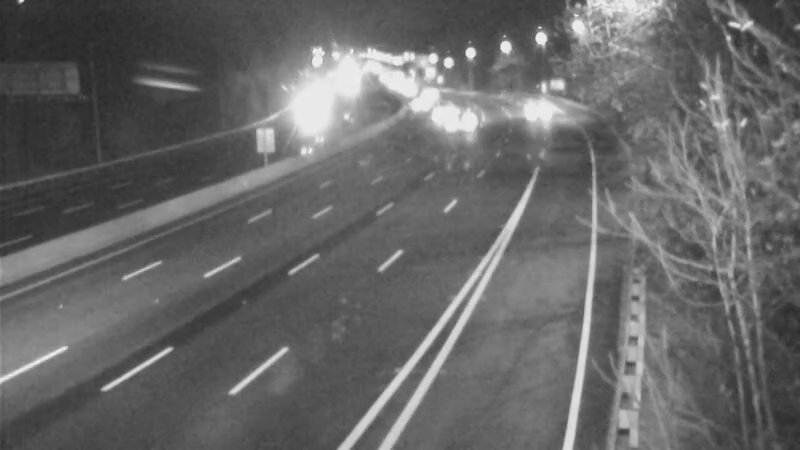vehicle: (402, 69, 452, 119), (506, 86, 556, 136), (394, 79, 444, 129), (410, 90, 460, 140), (436, 92, 486, 142)
